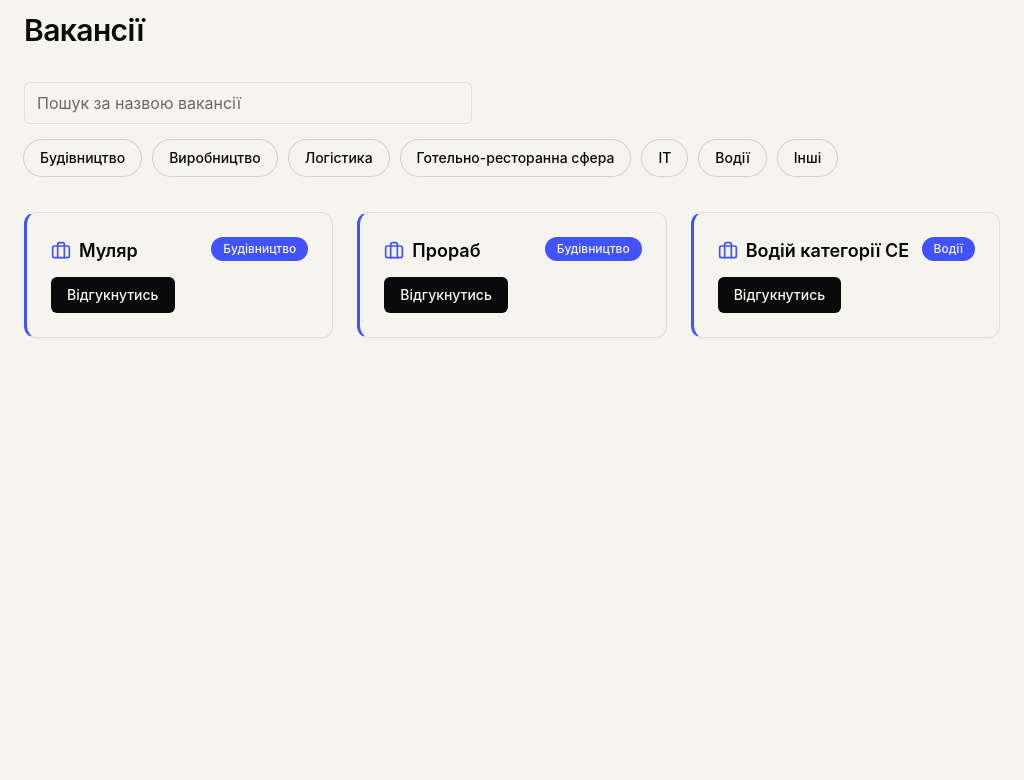
Test: vacancy list expand › collapses when the open card is toggled again
Expected: the heading "Муляр" is shown, 79,236 -> 138,264
Click the button "Відгукнутись" below "Муляр".
click(113, 294)  # box 51,276 -> 175,312
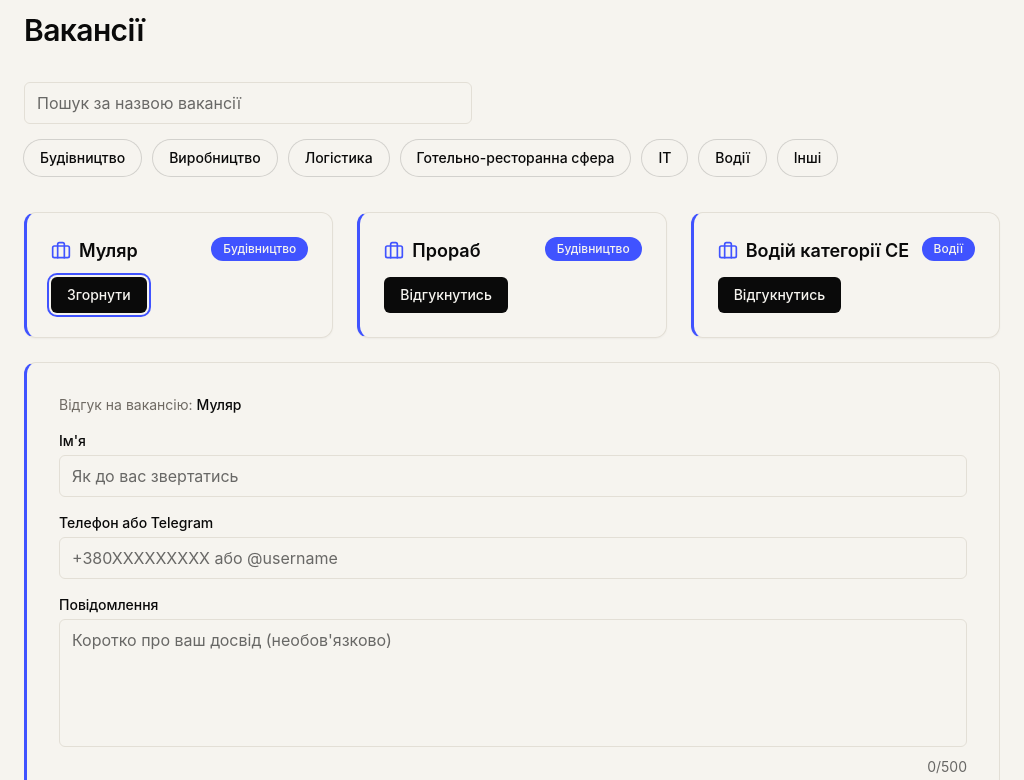
Expected: the number of fields labelled "Ім'я" is 1, 59,454 -> 967,496
Click the button "Згорнути".
click(99, 294)  # box 51,276 -> 147,312
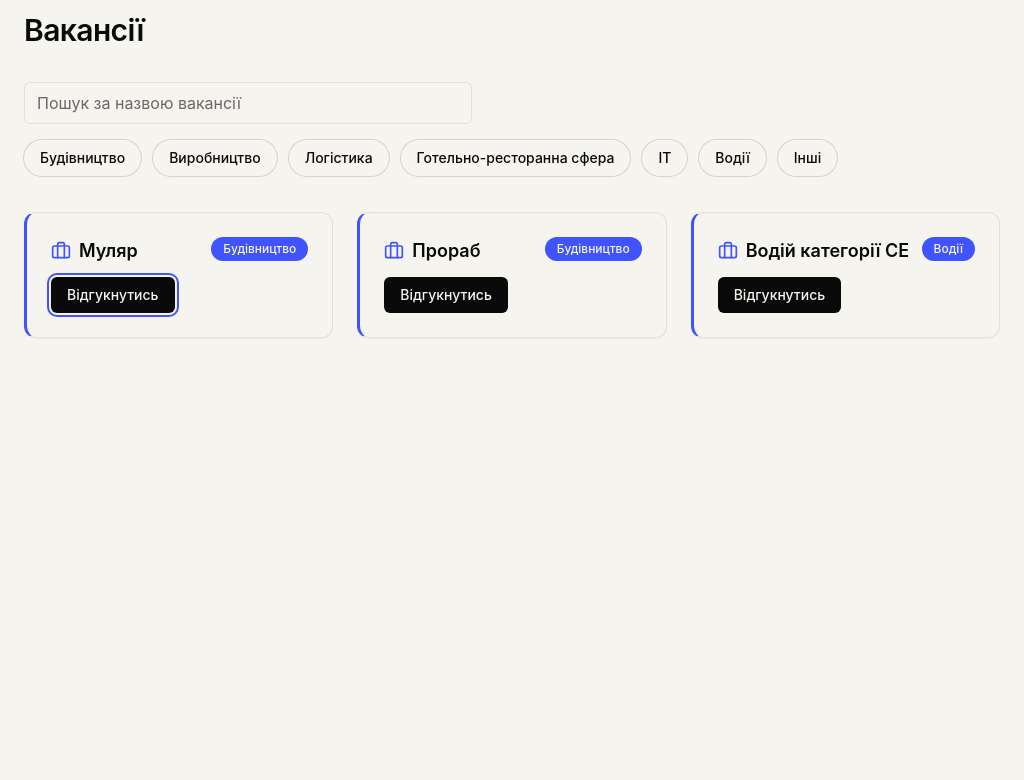
Expected: the label labelled "Ім'я" is gone
